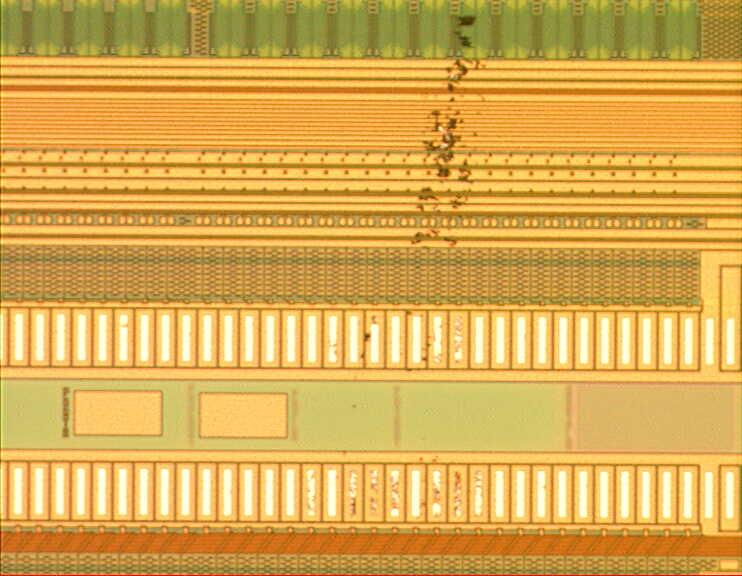SCRATCH: (332, 3, 503, 524)
